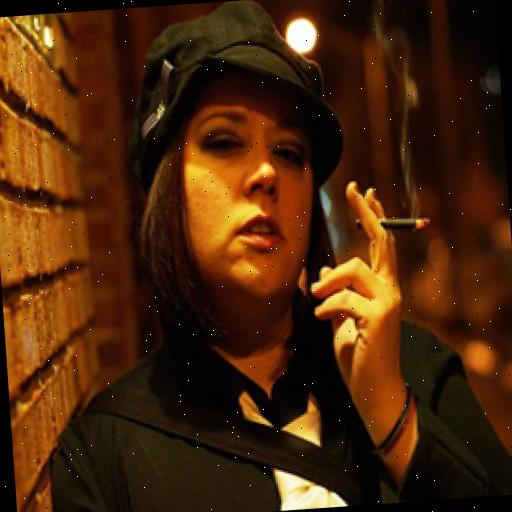terdeteksi pegang rokok: (334, 152, 444, 297)
